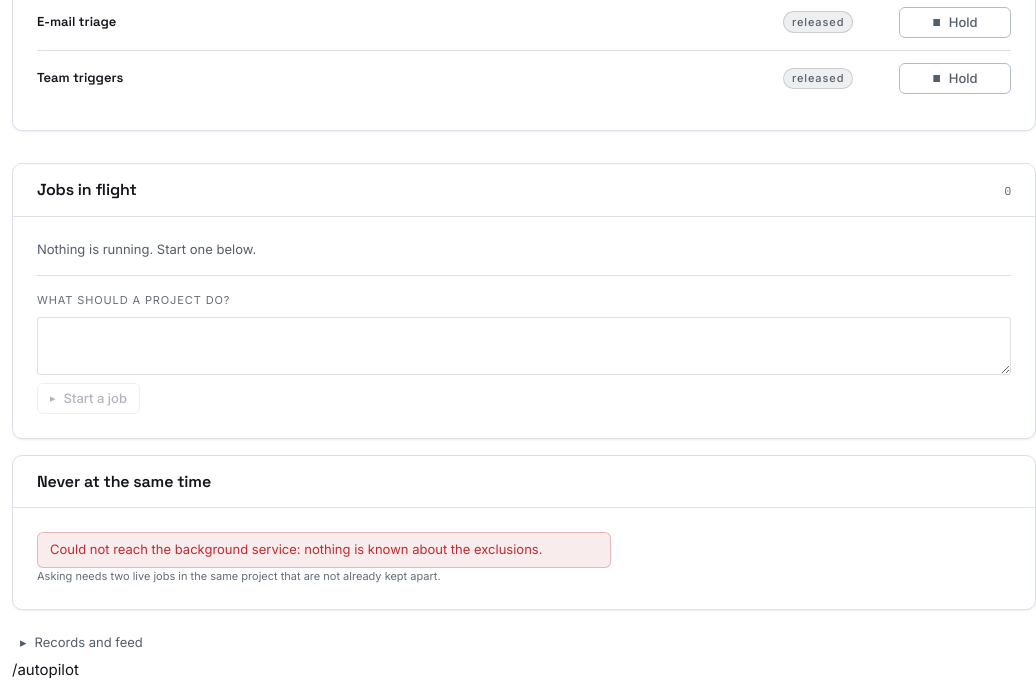
Test: Autopilot - the overnight and barrier records › heads a skipped item with the job and item and links the run
(page scrolled)
Click the button "Records and feed" at (81, 642), box 12,626 -> 151,658
(page scrolled)
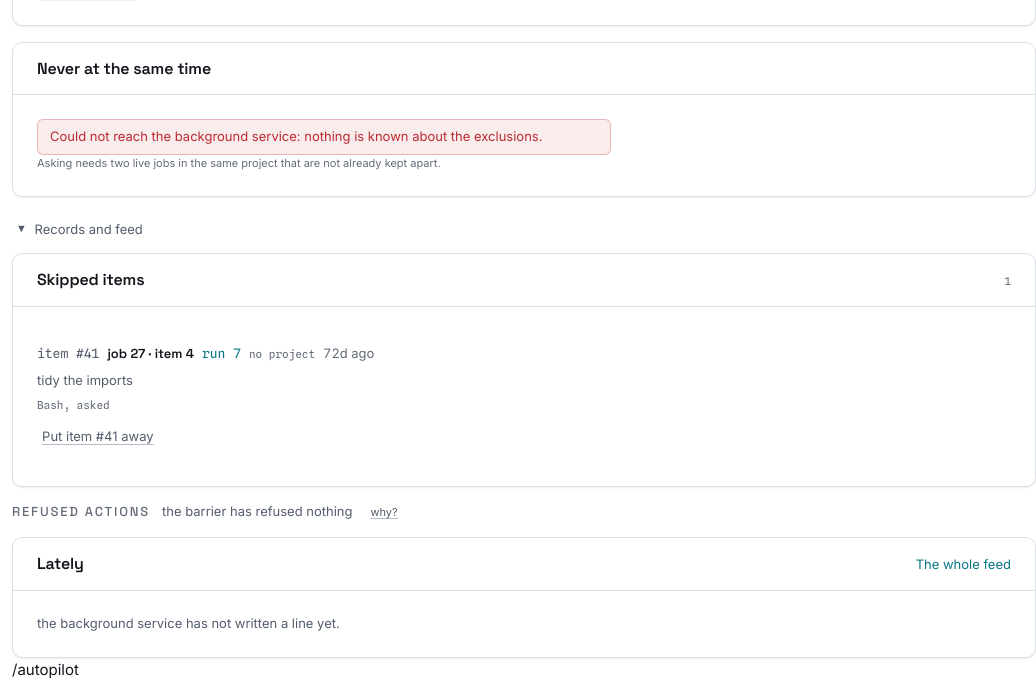
Expected: the text "tidy the imports" is shown, 37,372 -> 133,388
Expected: the text "Bash" is shown, 37,398 -> 63,412
Expected: the button "Put item #41 away" is shown, 37,422 -> 159,450
